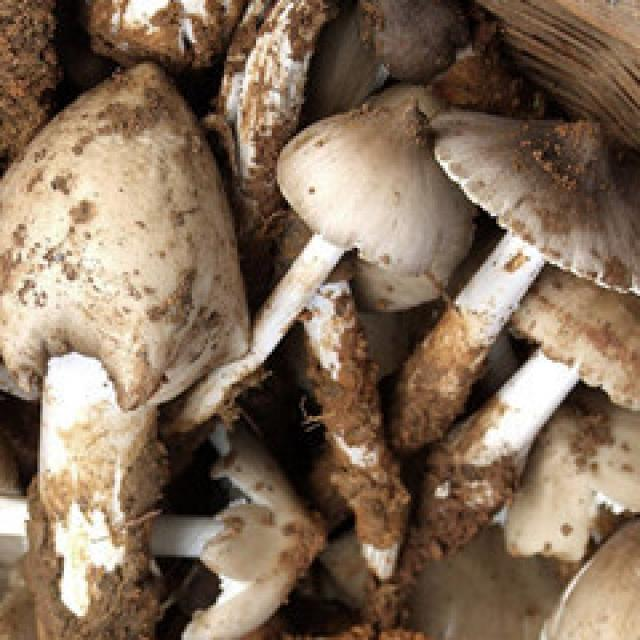Collybia albuminosa: (0, 60, 250, 584), (184, 86, 475, 403), (398, 112, 640, 453), (0, 441, 321, 638), (424, 275, 640, 544)
